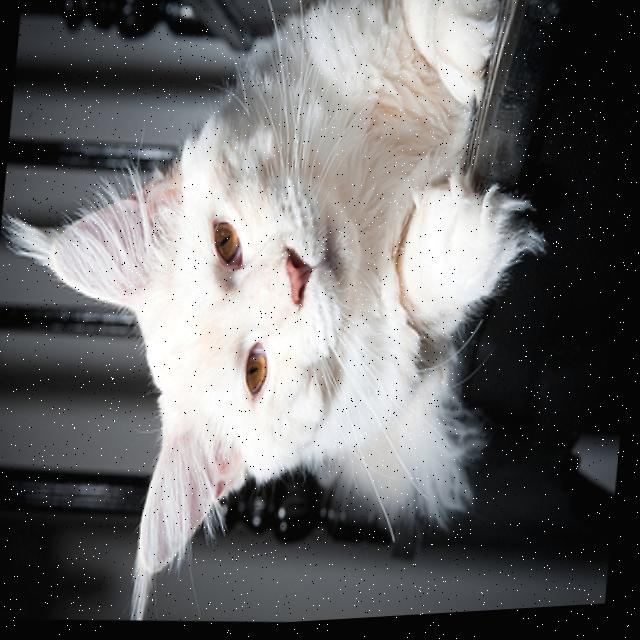Maine Coon: (0, 0, 543, 640)
